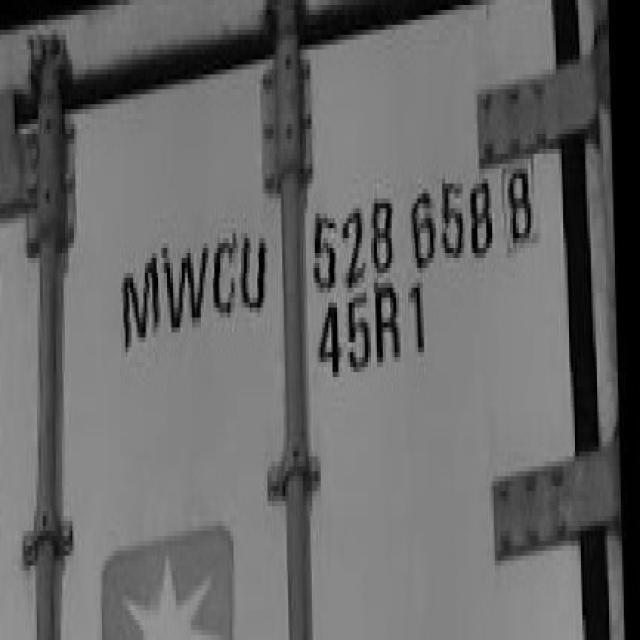dv: (505, 140, 538, 272)
owner: (117, 156, 272, 394)
serial: (309, 153, 495, 294)
size: (317, 276, 438, 400)
